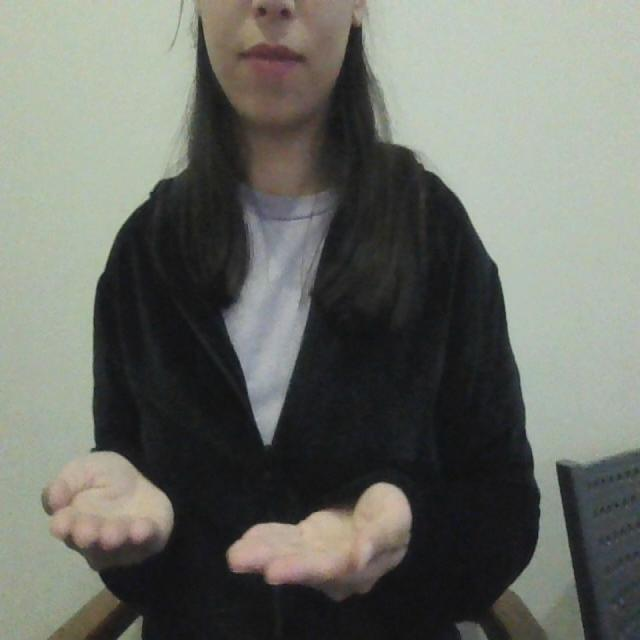Evet: (38, 444, 422, 606)
